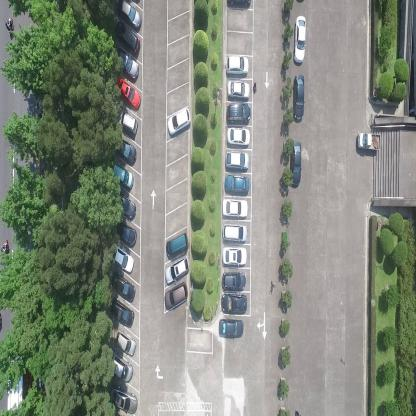car: (108, 384, 138, 414), (115, 19, 140, 55), (110, 348, 134, 382), (109, 296, 134, 328), (116, 77, 141, 109), (117, 0, 143, 30), (167, 104, 191, 136), (110, 272, 136, 301), (292, 15, 307, 65), (164, 280, 188, 310), (115, 134, 138, 165), (165, 254, 190, 281), (111, 162, 135, 190), (118, 50, 139, 82), (165, 230, 188, 259), (115, 219, 138, 248), (112, 244, 134, 274), (116, 107, 138, 137), (292, 73, 305, 123), (289, 140, 302, 188), (224, 173, 250, 196), (221, 292, 247, 315), (117, 191, 137, 220), (226, 101, 251, 124), (222, 245, 247, 268), (114, 330, 137, 355), (222, 224, 249, 245), (225, 54, 248, 77), (224, 150, 249, 171), (358, 131, 380, 154), (219, 318, 244, 338), (223, 270, 247, 290), (222, 199, 248, 217), (226, 80, 250, 99), (226, 128, 250, 147)
